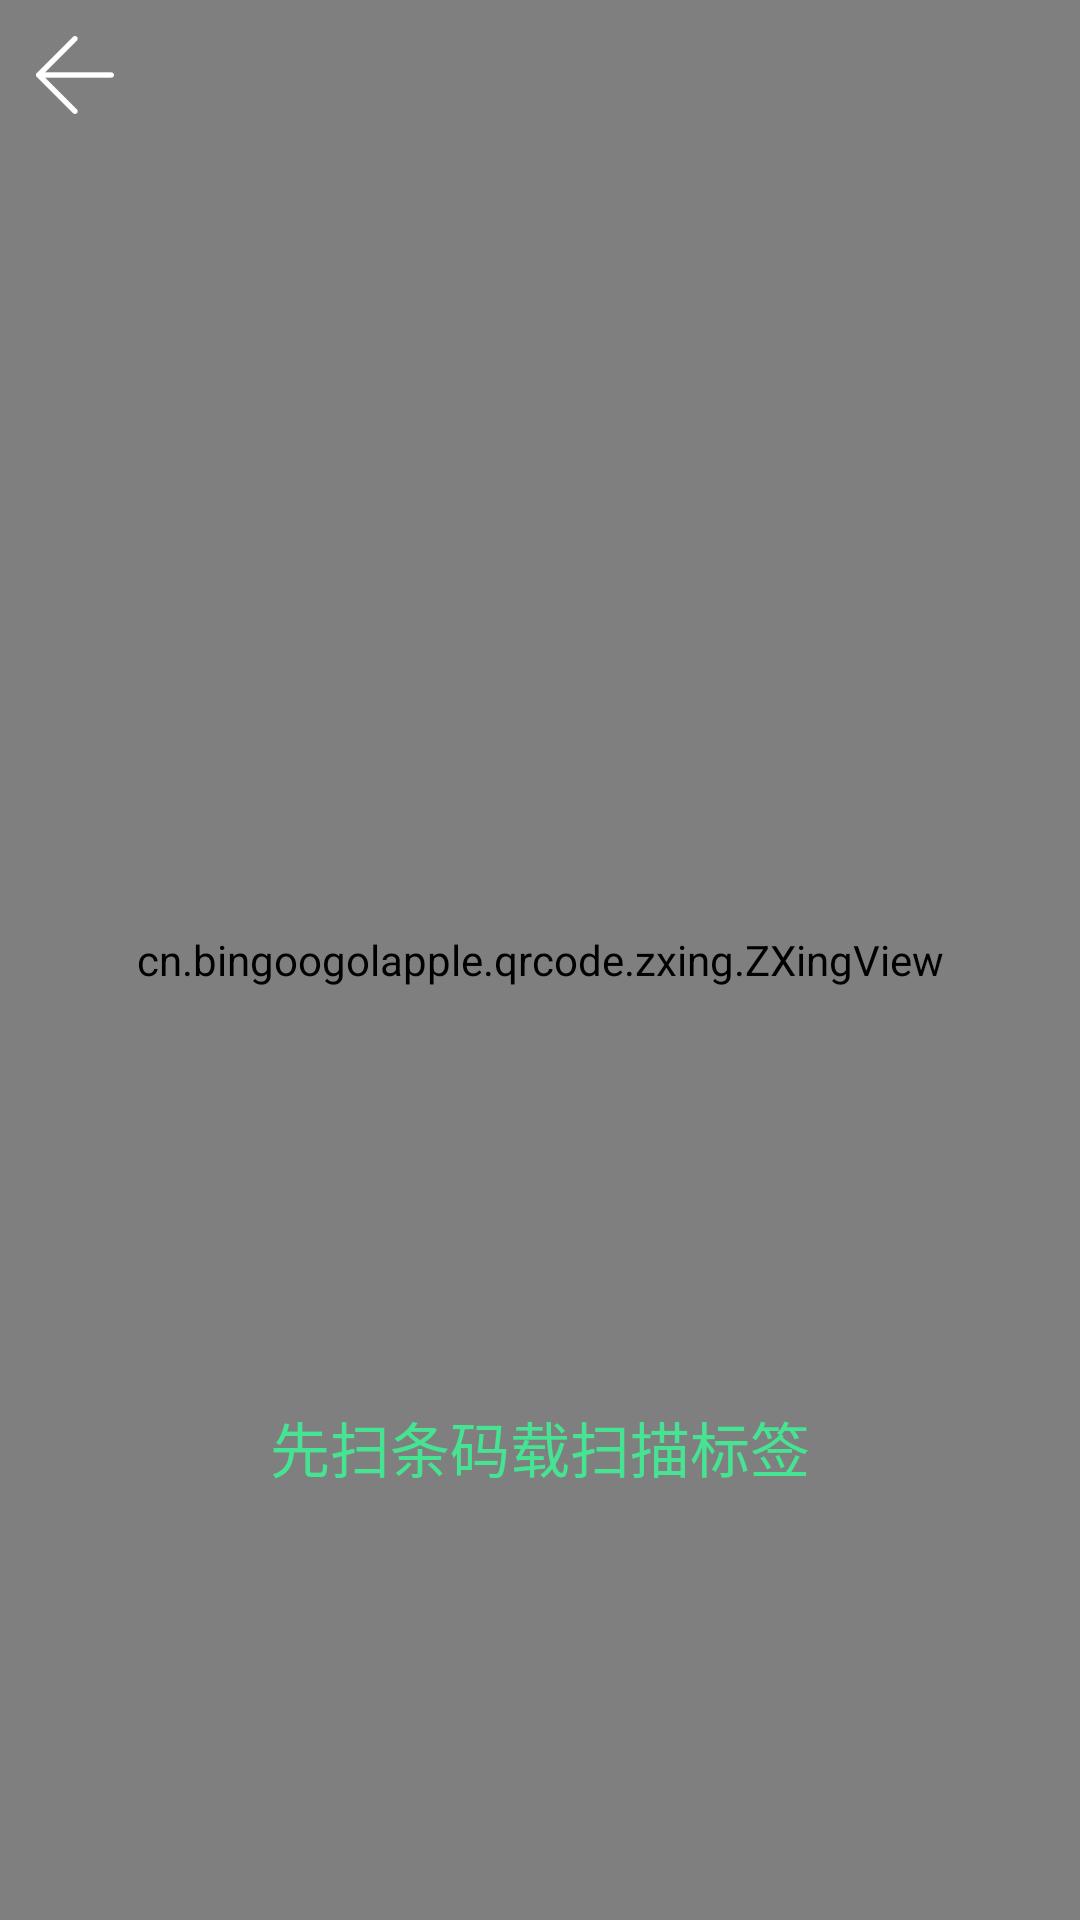

Icons on this 1080px×1920px Android screen, each with the point to tap as (x=x, y=y):
back: (x=75, y=75)
